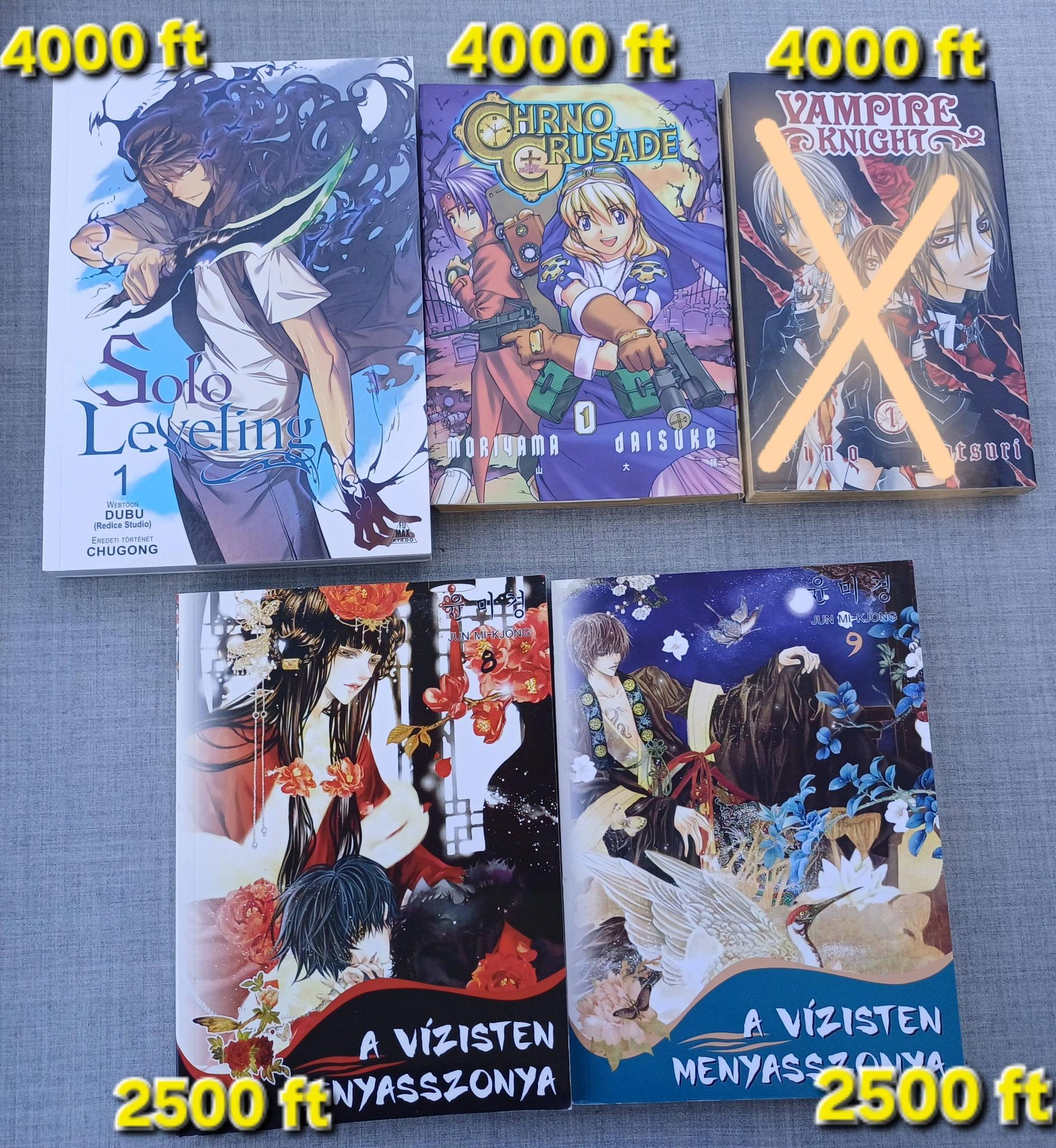comic: (157, 576, 572, 1128), (546, 560, 962, 1109), (30, 58, 430, 574), (720, 58, 1035, 509), (417, 77, 741, 508)
